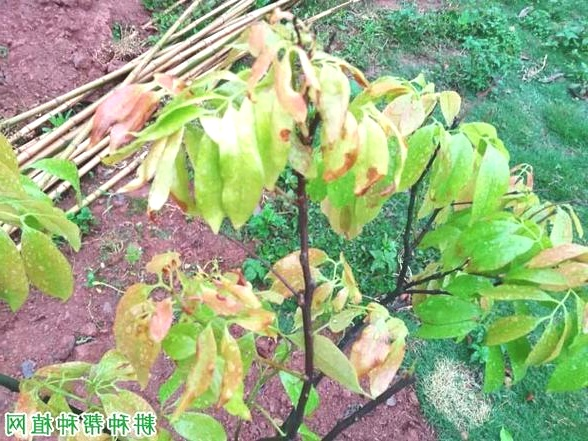Anthracnose: (151, 257, 321, 364), (238, 34, 315, 130), (336, 113, 418, 194), (347, 304, 419, 384), (508, 215, 574, 289)
